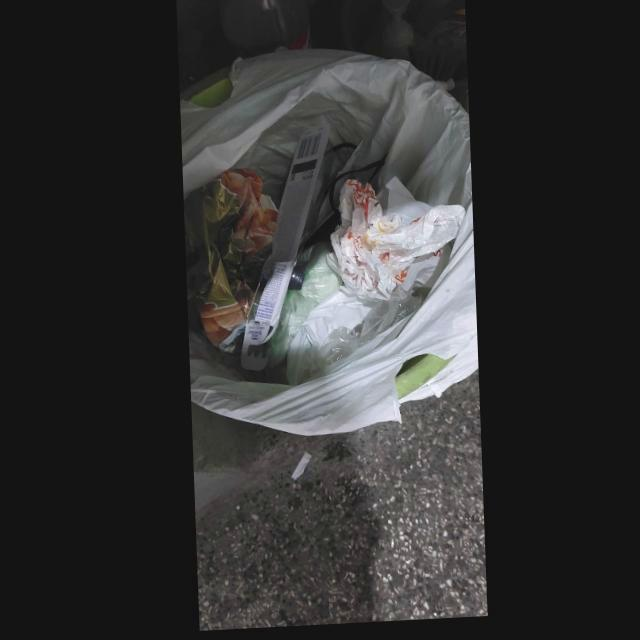cardboard: (238, 137, 324, 375)
paper: (182, 171, 277, 357), (325, 183, 465, 306), (284, 295, 370, 389)
